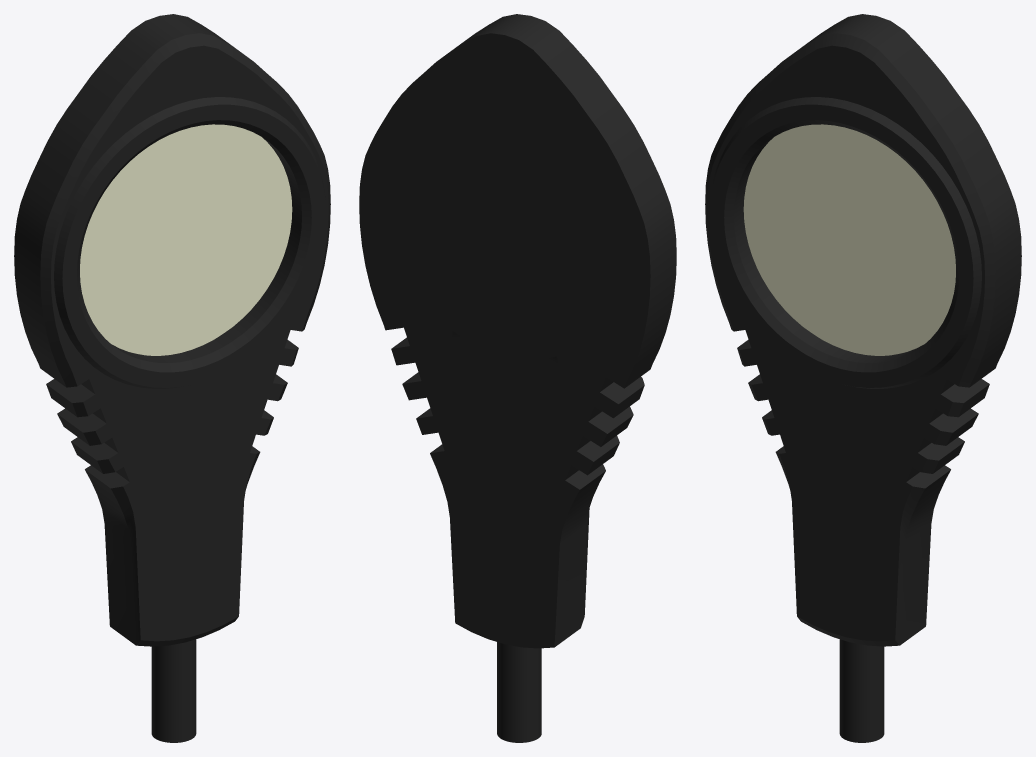
File: PressureGaugeBase.fbx
3 views of the same model, side by side, from view 1: azimuth 30°, elevation 25°; view 2: azimuth 150°, elevation 25°; view 3: azimuth 330°, elevation 25° (orthographic).
Parts seen in each view (by area): view 1: Circle, Cylinder; view 2: Circle, Cylinder; view 3: Circle, Cylinder.
Part boxes in pixels (<box>): Circle: <box>14,14,330,646</box>; Cylinder: <box>151,639,196,742</box>; Circle: <box>359,14,676,648</box>; Cylinder: <box>497,642,541,742</box>; Circle: <box>705,14,1021,646</box>; Cylinder: <box>839,639,884,742</box>.
Size of the model in its own units: 27.14 by 63.11 by 5.66.
